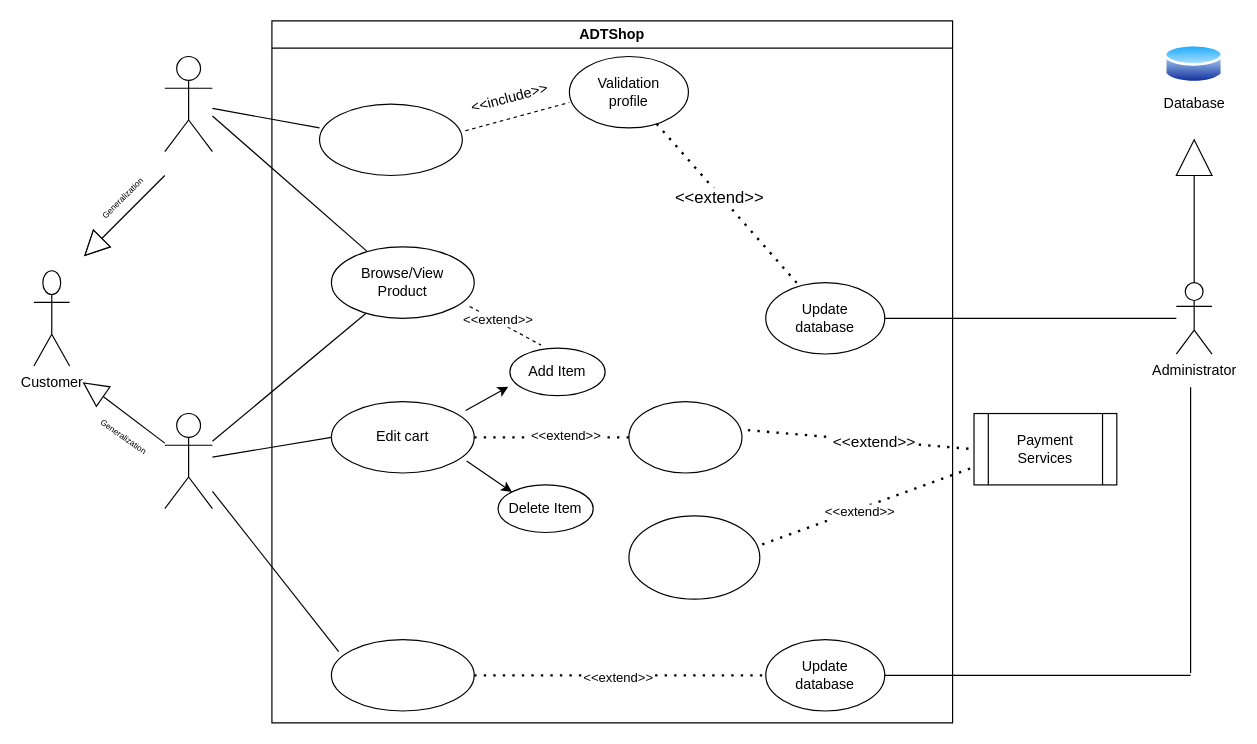
Image size: 1257x744. Some labels were removed from this diagram. Each missing label, with the centre of its shape:
"Confirm Payment/Shipment" belongs at point (694, 557).
"Edit profile" belongs at point (402, 674).
"Guest" belongs at point (188, 103).
"Member" belongs at point (188, 460).
"Member register" belongs at point (390, 139).
"Purchase" belongs at point (685, 436).
